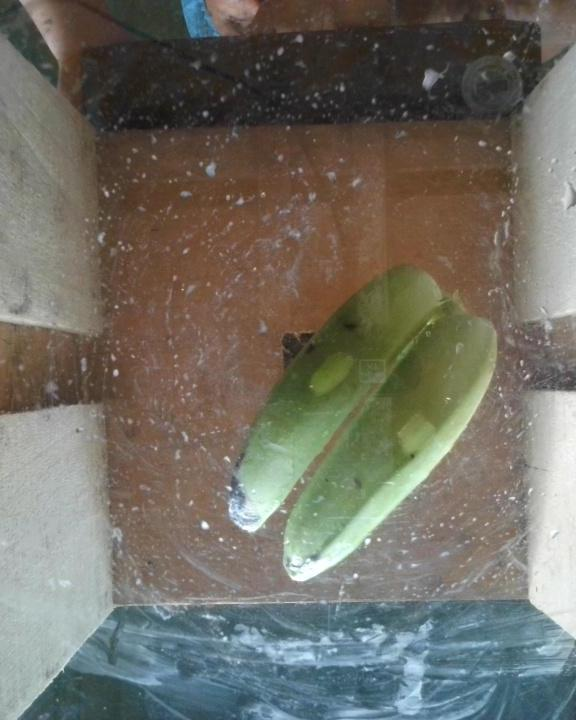CLASS B: (197, 253, 523, 586)
Class A: (227, 476, 254, 528), (295, 335, 334, 363), (339, 315, 372, 343), (347, 470, 374, 501)
